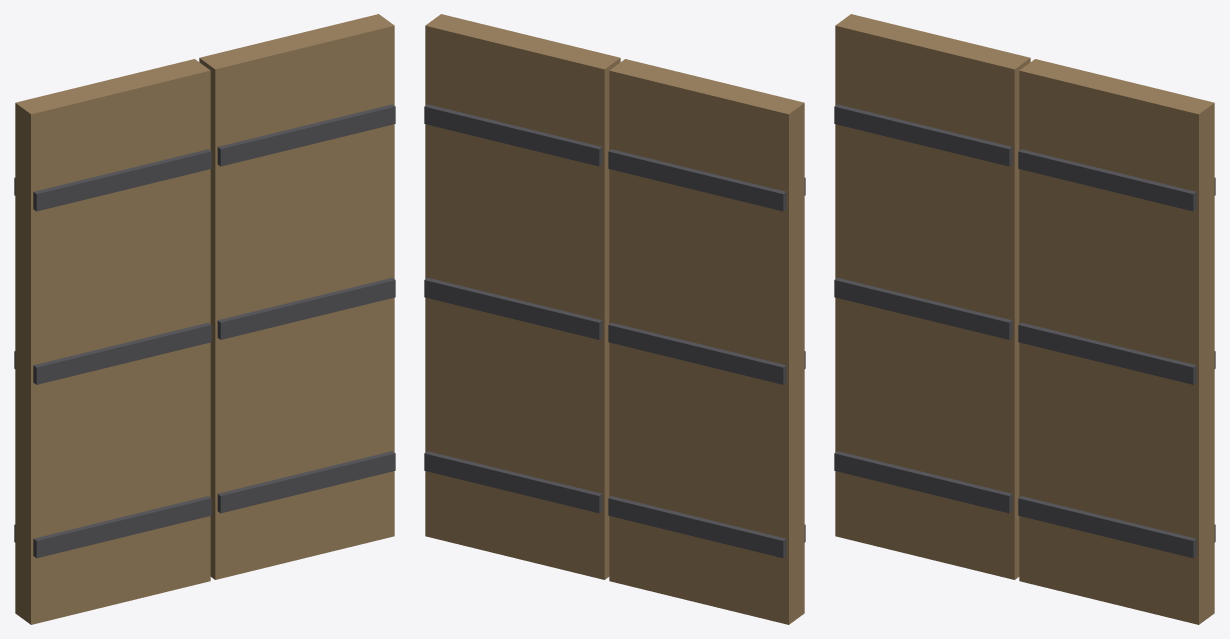
File: gate_doors.glb
3 renders of one model, left to right at view 1: azimuth 30°, elevation 25°; view 2: azimuth 150°, elevation 25°; view 3: azimuth 330°, elevation 25°, orthographic.
Visible parts, largest first — view 1: gate_doors; view 2: gate_doors; view 3: gate_doors.
Boxes of the visible parts, <box> form: gate_doors: <box>14,14,395,624</box>; gate_doors: <box>424,14,805,624</box>; gate_doors: <box>834,14,1215,624</box>.
Size of the model in its own units: 3.95 by 5.3 by 0.42.
